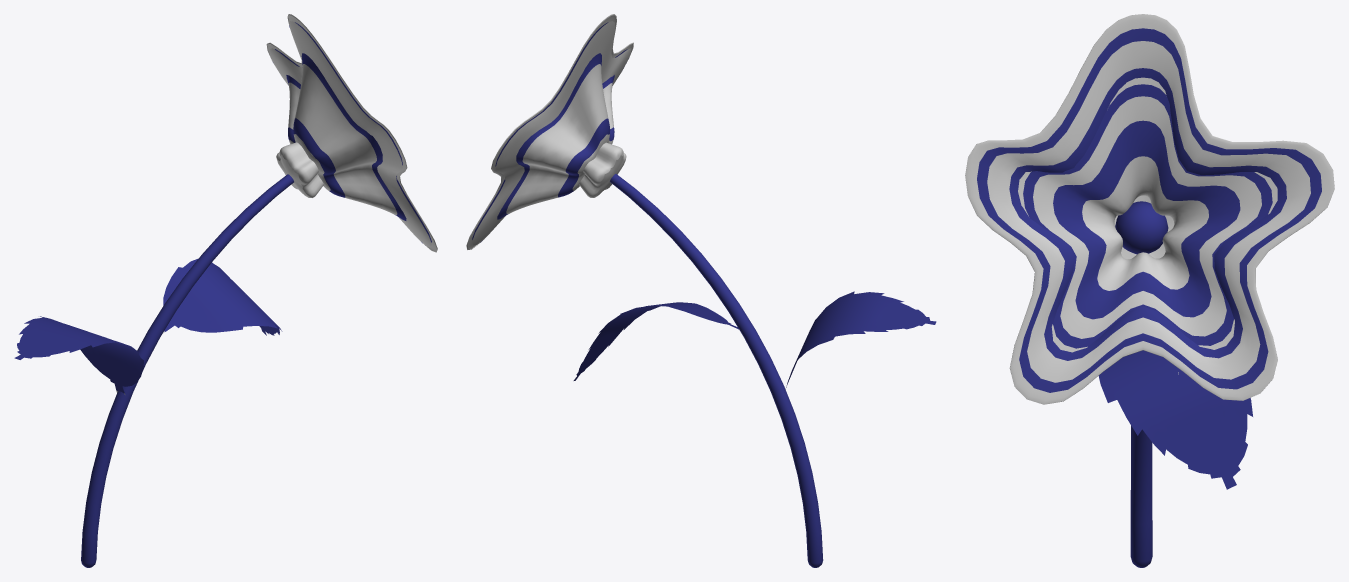
Rendered from wohl-pflanze.fbx.
3 views of the same model, side by side, from view 1: azimuth 30°, elevation 25°; view 2: azimuth 150°, elevation 25°; view 3: azimuth 270°, elevation 25° (orthographic). The views are drawn at different scales.
Visible parts, largest first — view 1: Sphere_1; view 2: Sphere_1; view 3: Sphere_1.
Boxes of the visible parts, x1=… form: Sphere_1: x1=14, y1=14, x2=437, y2=567; Sphere_1: x1=466, y1=14, x2=936, y2=567; Sphere_1: x1=965, y1=14, x2=1334, y2=567.
Bounding box in the file's own units: 27.65 × 32.57 × 15.73.
